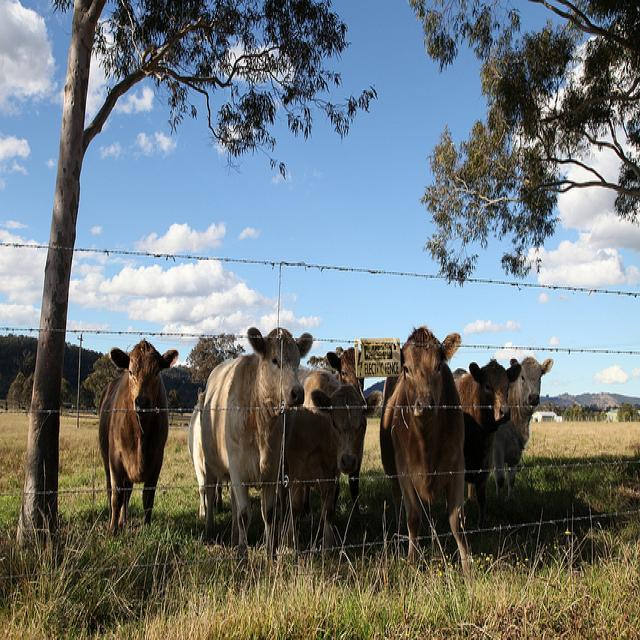cow: (201, 326, 313, 545), (376, 323, 470, 577), (280, 381, 380, 556), (97, 337, 178, 534), (493, 352, 553, 496), (454, 359, 519, 479)
